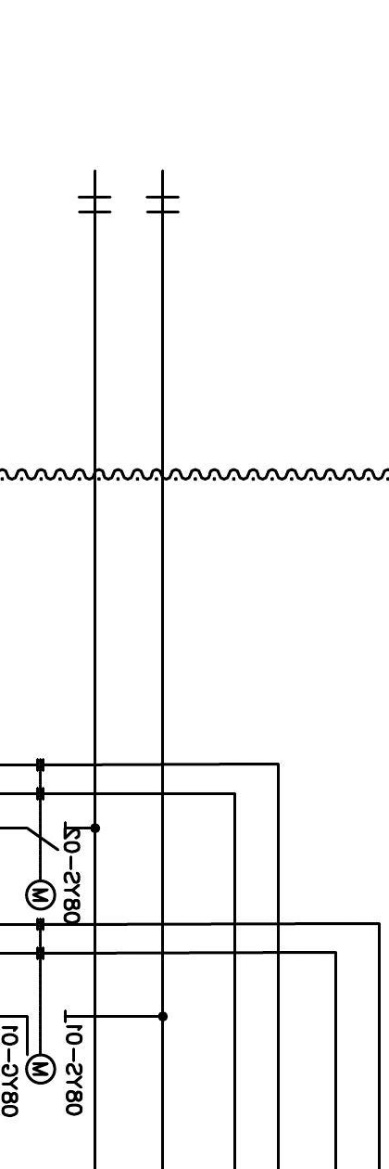115_1way_ds_w_motor: (24, 820, 68, 911), (24, 1009, 67, 1085)
115_buffer: (77, 195, 112, 213), (145, 196, 180, 213)
